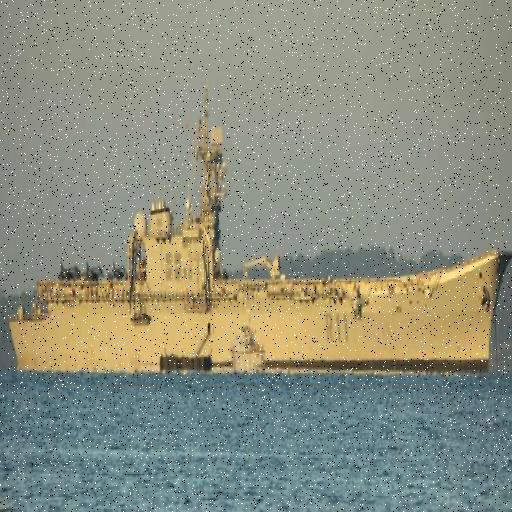Portanaves: (6, 80, 512, 380)
